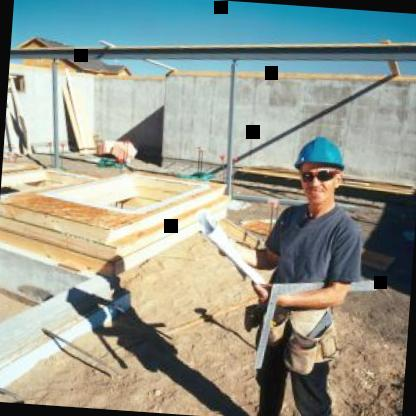helmet: (294, 134, 348, 209)
